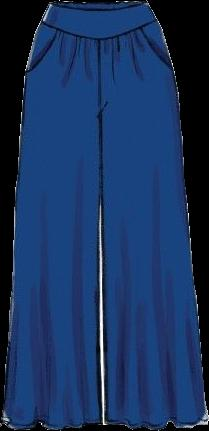Hemline: (1, 417, 104, 430), (103, 418, 208, 430)
Pantleg: (99, 1, 208, 428), (1, 2, 101, 429)
Waistline: (39, 17, 158, 44), (46, 0, 148, 11)
